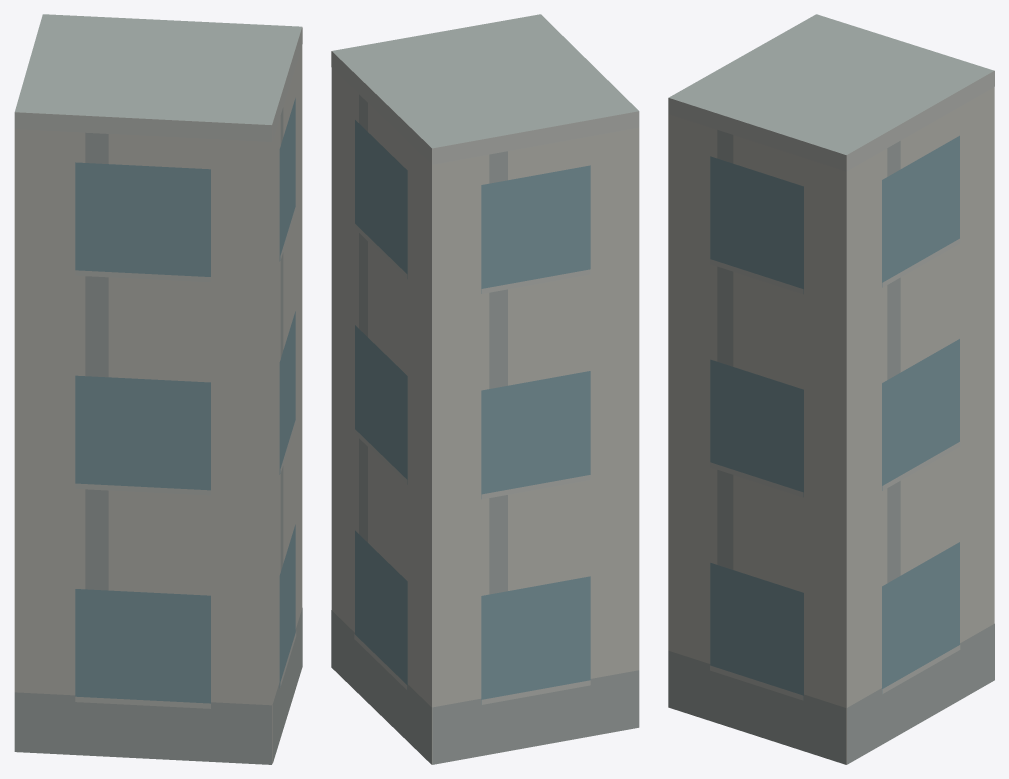
The model's file is survey-upis-32744366.glb.
The picture shows the model from 3 angles, left to right: view 1: azimuth 30°, elevation 25°; view 2: azimuth 150°, elevation 25°; view 3: azimuth 270°, elevation 25°; orthographic projection. The views are drawn at different scales.
Visible parts, largest first — view 1: survey-upis-32744366.tmp; view 2: survey-upis-32744366.tmp; view 3: survey-upis-32744366.tmp.
Boxes of the visible parts, x1,y1,x2,y2 form: survey-upis-32744366.tmp: (14, 14, 302, 764); survey-upis-32744366.tmp: (331, 14, 639, 764); survey-upis-32744366.tmp: (668, 14, 994, 764).
Size of the model in its own units: 4.55 by 9.15 by 4.44.
